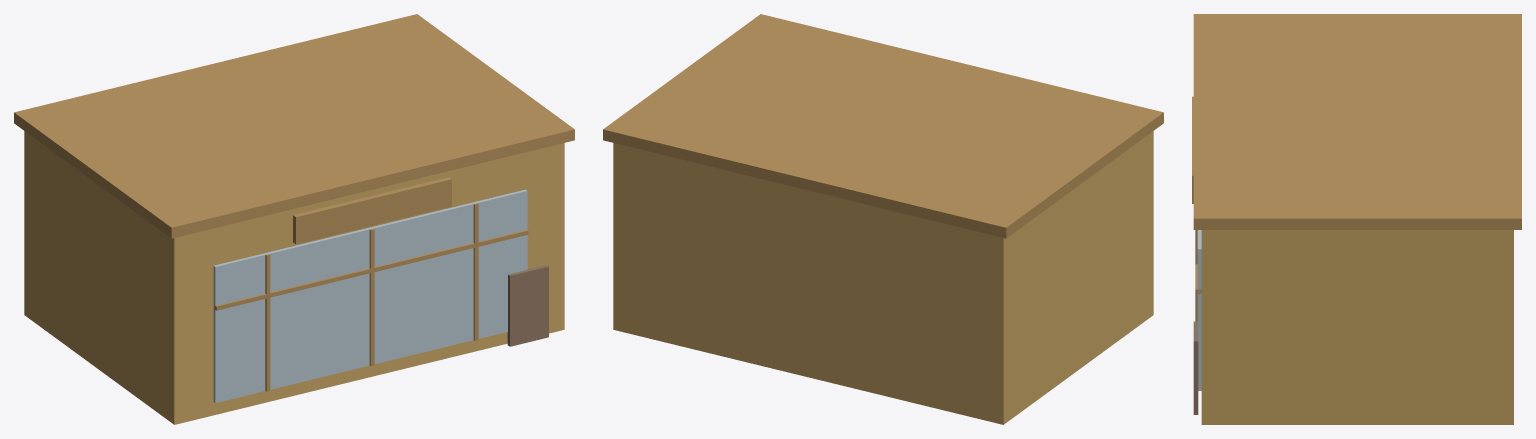
File: building-gym.glb
The picture shows the model from 3 angles, left to right: view 1: azimuth 30°, elevation 25°; view 2: azimuth 150°, elevation 25°; view 3: azimuth 270°, elevation 25°; orthographic projection. The views are drawn at different scales.
Parts seen in each view (by area): view 1: building-gym_part_1, building-gym_part_0, building-gym_part_2, building-gym_part_8, building-gym_part_7, building-gym_part_6, building-gym_part_4, building-gym_part_3, building-gym_part_5; view 2: building-gym_part_0, building-gym_part_1; view 3: building-gym_part_1, building-gym_part_0, building-gym_part_2, building-gym_part_7.
Boxes of the visible parts, left/top/right/bottom form: building-gym_part_1: left=14, top=14, right=574, bottom=238; building-gym_part_0: left=24, top=131, right=564, bottom=424; building-gym_part_2: left=213, top=189, right=527, bottom=402; building-gym_part_8: left=293, top=177, right=451, bottom=244; building-gym_part_7: left=507, top=265, right=548, bottom=346; building-gym_part_6: left=214, top=229, right=528, bottom=310; building-gym_part_4: left=369, top=228, right=374, bottom=366; building-gym_part_3: left=265, top=253, right=270, bottom=391; building-gym_part_5: left=473, top=203, right=478, bottom=340; building-gym_part_0: left=613, top=131, right=1153, bottom=424; building-gym_part_1: left=603, top=14, right=1163, bottom=238; building-gym_part_1: left=1193, top=14, right=1521, bottom=229; building-gym_part_0: left=1201, top=230, right=1513, bottom=424; building-gym_part_2: left=1197, top=230, right=1201, bottom=390; building-gym_part_7: left=1193, top=321, right=1198, bottom=414.
Bounding box in the file's own units: 15.5 × 7.4 × 10.55.
